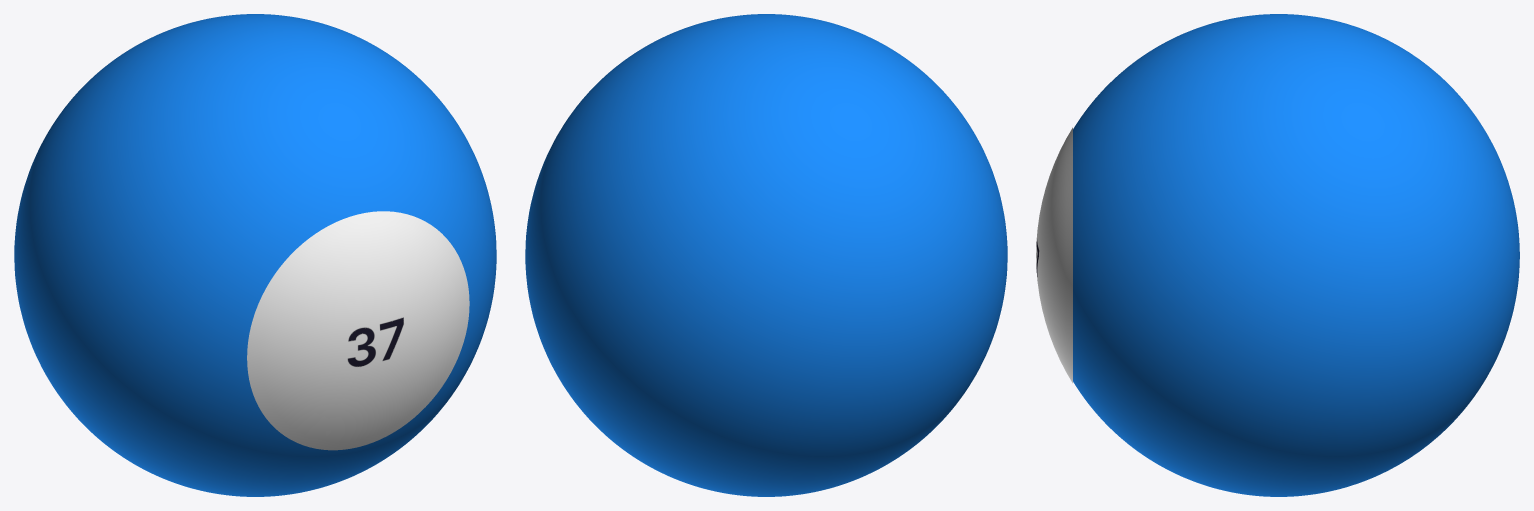
File: ball-37.glb
3 renders of one model, left to right at view 1: azimuth 30°, elevation 25°; view 2: azimuth 150°, elevation 25°; view 3: azimuth 270°, elevation 25°, orthographic.
Parts seen in each view (by area): view 1: Ball_37_Shell, Ball_37_Number_Disc; view 2: Ball_37_Shell; view 3: Ball_37_Shell, Ball_37_Number_Disc.
Part boxes in pixels (box(x1,y1,x2,y2)): Ball_37_Shell: box(14, 14, 496, 496); Ball_37_Number_Disc: box(247, 211, 469, 450); Ball_37_Shell: box(525, 14, 1007, 496); Ball_37_Shell: box(1073, 14, 1519, 496); Ball_37_Number_Disc: box(1036, 127, 1072, 383).
Size of the model in its own units: 1.84 by 1.84 by 1.84.
2 materials, 1 textured.
